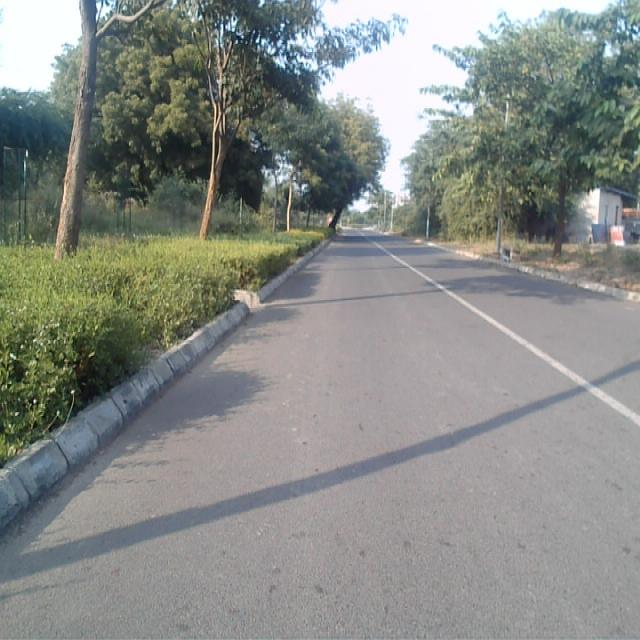lane: (0, 230, 640, 640)
